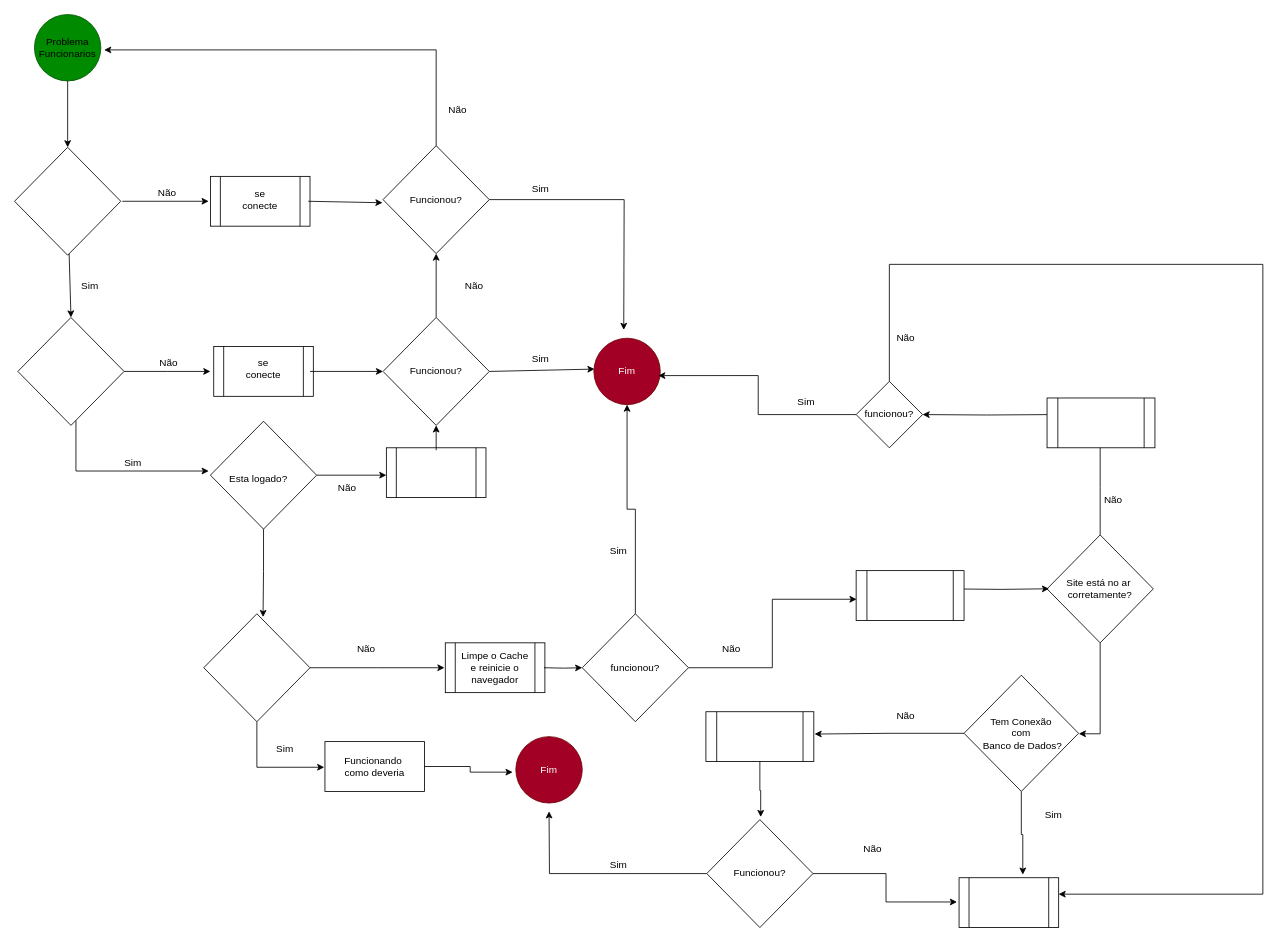
This 1284x942 diagram has some shape labels left out. Each missing label, with the centre of its shape:
"Aparece os funcionarios?" goes at point 256,667.
"Corrija Conexão" goes at point 759,736.
"Corrija e coloque no ar" goes at point 1100,422.
"dispositivo Esta conectado na energia?" goes at point 67,200.
"dispositivo Esta conectado na internet?" goes at point 70,371.
"Faça login" goes at point 436,472.
"Passa Requisição N2" goes at point 909,595.
"Passa Requisição N3" goes at point 1008,902.
